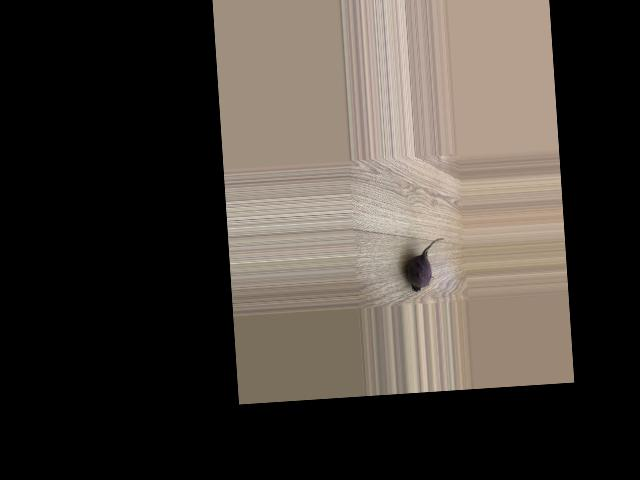beet: (405, 236, 447, 291)
